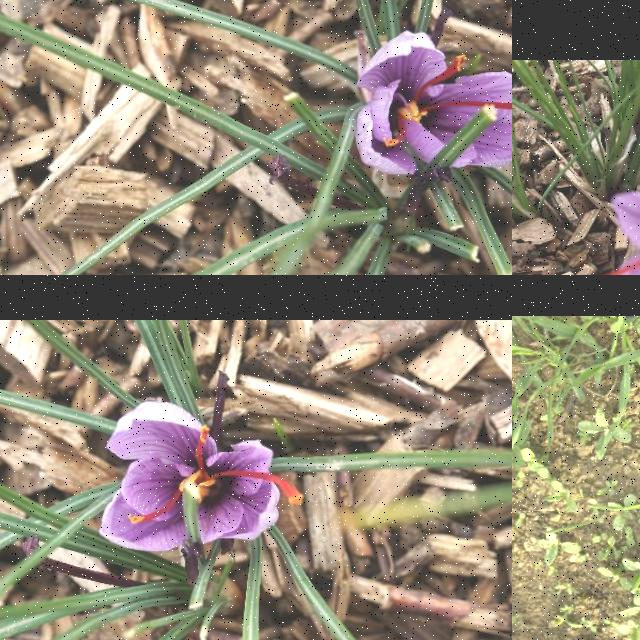flower: (100, 402, 304, 552), (355, 32, 512, 174), (569, 75, 640, 275)
